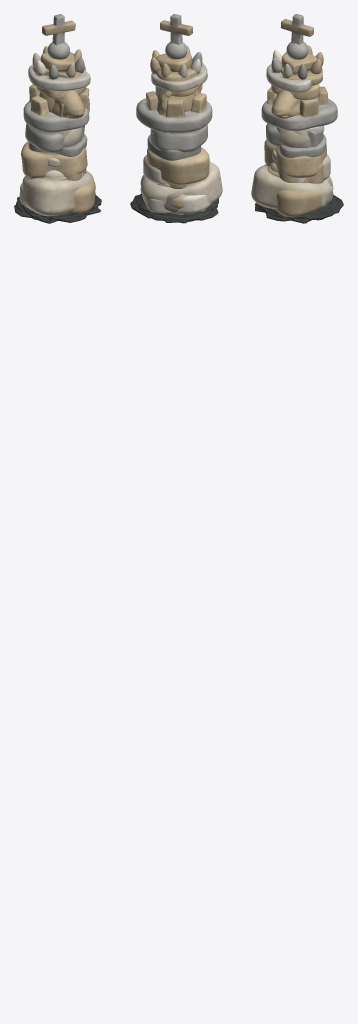
Rendered from cairn.glb.
The picture shows the model from 3 angles, left to right: view 1: azimuth 30°, elevation 25°; view 2: azimuth 150°, elevation 25°; view 3: azimuth 330°, elevation 25°; orthographic projection.
Parts seen in each view (by area): view 1: cairn_rook, cairn_queen, cairn_king, cairn_knight, cairn_pawn; view 2: cairn_rook, cairn_king, cairn_queen, cairn_knight, cairn_pawn; view 3: cairn_rook, cairn_king, cairn_queen, cairn_knight, cairn_pawn.
Boxes of the visible parts, x1,y1,x2,y2 form: cairn_rook: [14, 84, 101, 222]; cairn_queen: [22, 42, 100, 218]; cairn_king: [16, 14, 100, 223]; cairn_knight: [19, 90, 98, 222]; cairn_pawn: [48, 128, 82, 167]; cairn_rook: [136, 87, 222, 220]; cairn_king: [130, 14, 218, 223]; cairn_queen: [137, 42, 216, 221]; cairn_knight: [139, 85, 211, 220]; cairn_pawn: [145, 183, 172, 213]; cairn_rook: [251, 86, 337, 223]; cairn_king: [255, 14, 343, 223]; cairn_queen: [262, 41, 336, 220]; cairn_knight: [264, 90, 335, 218]; cairn_pawn: [272, 131, 310, 161].
Size of the model in its own units: 0.5138 by 6.18 by 0.4854.
2 materials, 2 textured.
